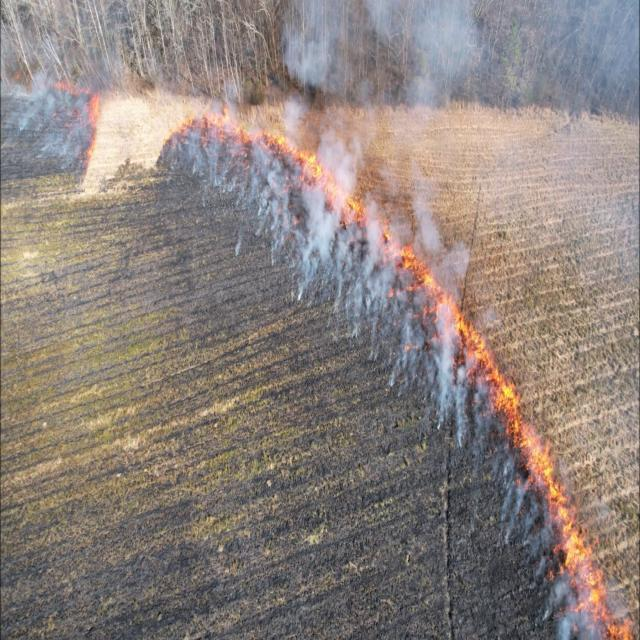Fire: (300, 139, 372, 228), (543, 465, 592, 590), (487, 368, 532, 448)
Smoke: (10, 62, 89, 178), (237, 151, 294, 264), (297, 178, 339, 323), (430, 255, 458, 451), (537, 572, 596, 640)
